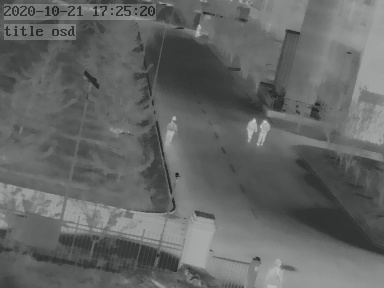person: (164, 113, 177, 143), (246, 115, 258, 145), (258, 119, 271, 146), (194, 23, 201, 38)
vehicle: (267, 259, 283, 288)
